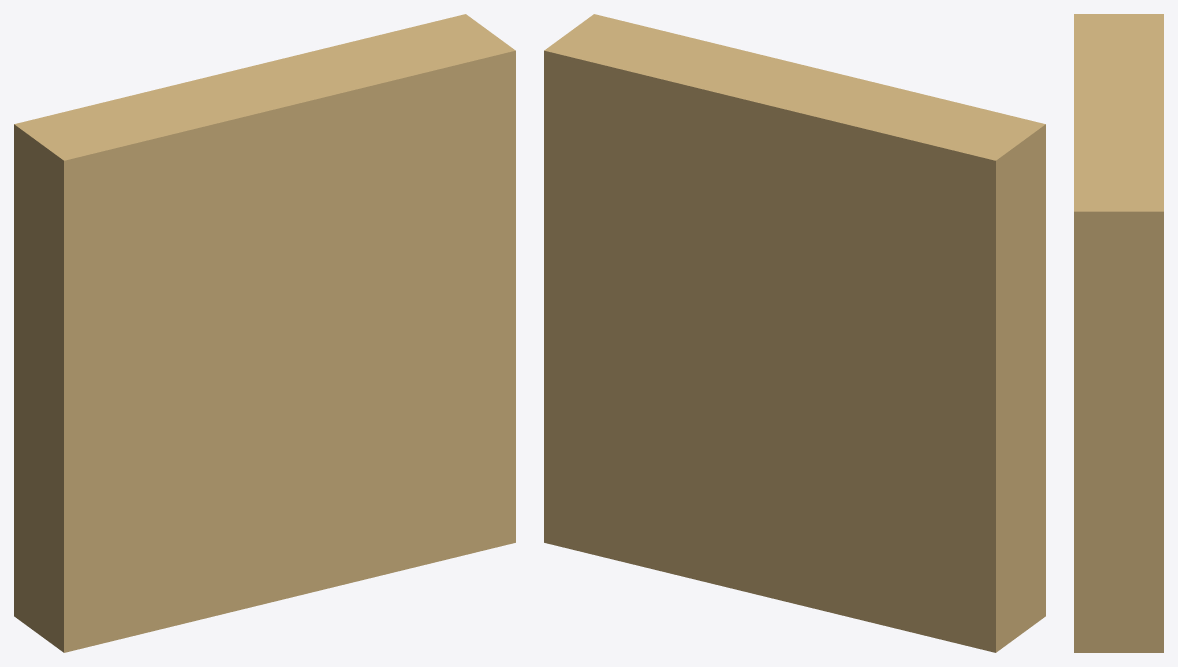
The picture shows the model from 3 angles, left to right: view 1: azimuth 30°, elevation 25°; view 2: azimuth 150°, elevation 25°; view 3: azimuth 270°, elevation 25°; orthographic projection. The views are drawn at different scales.
Visible parts, largest first — view 1: GF-L10-BLK-SUP-B2-S1-045; view 2: GF-L10-BLK-SUP-B2-S1-045; view 3: GF-L10-BLK-SUP-B2-S1-045.
Part boxes in pixels (x1=…): GF-L10-BLK-SUP-B2-S1-045: x1=14, y1=14, x2=515, y2=652; GF-L10-BLK-SUP-B2-S1-045: x1=544, y1=14, x2=1045, y2=652; GF-L10-BLK-SUP-B2-S1-045: x1=1074, y1=14, x2=1163, y2=652.
Bounding box in the file's own units: 0.1825 × 0.19 × 0.035.
